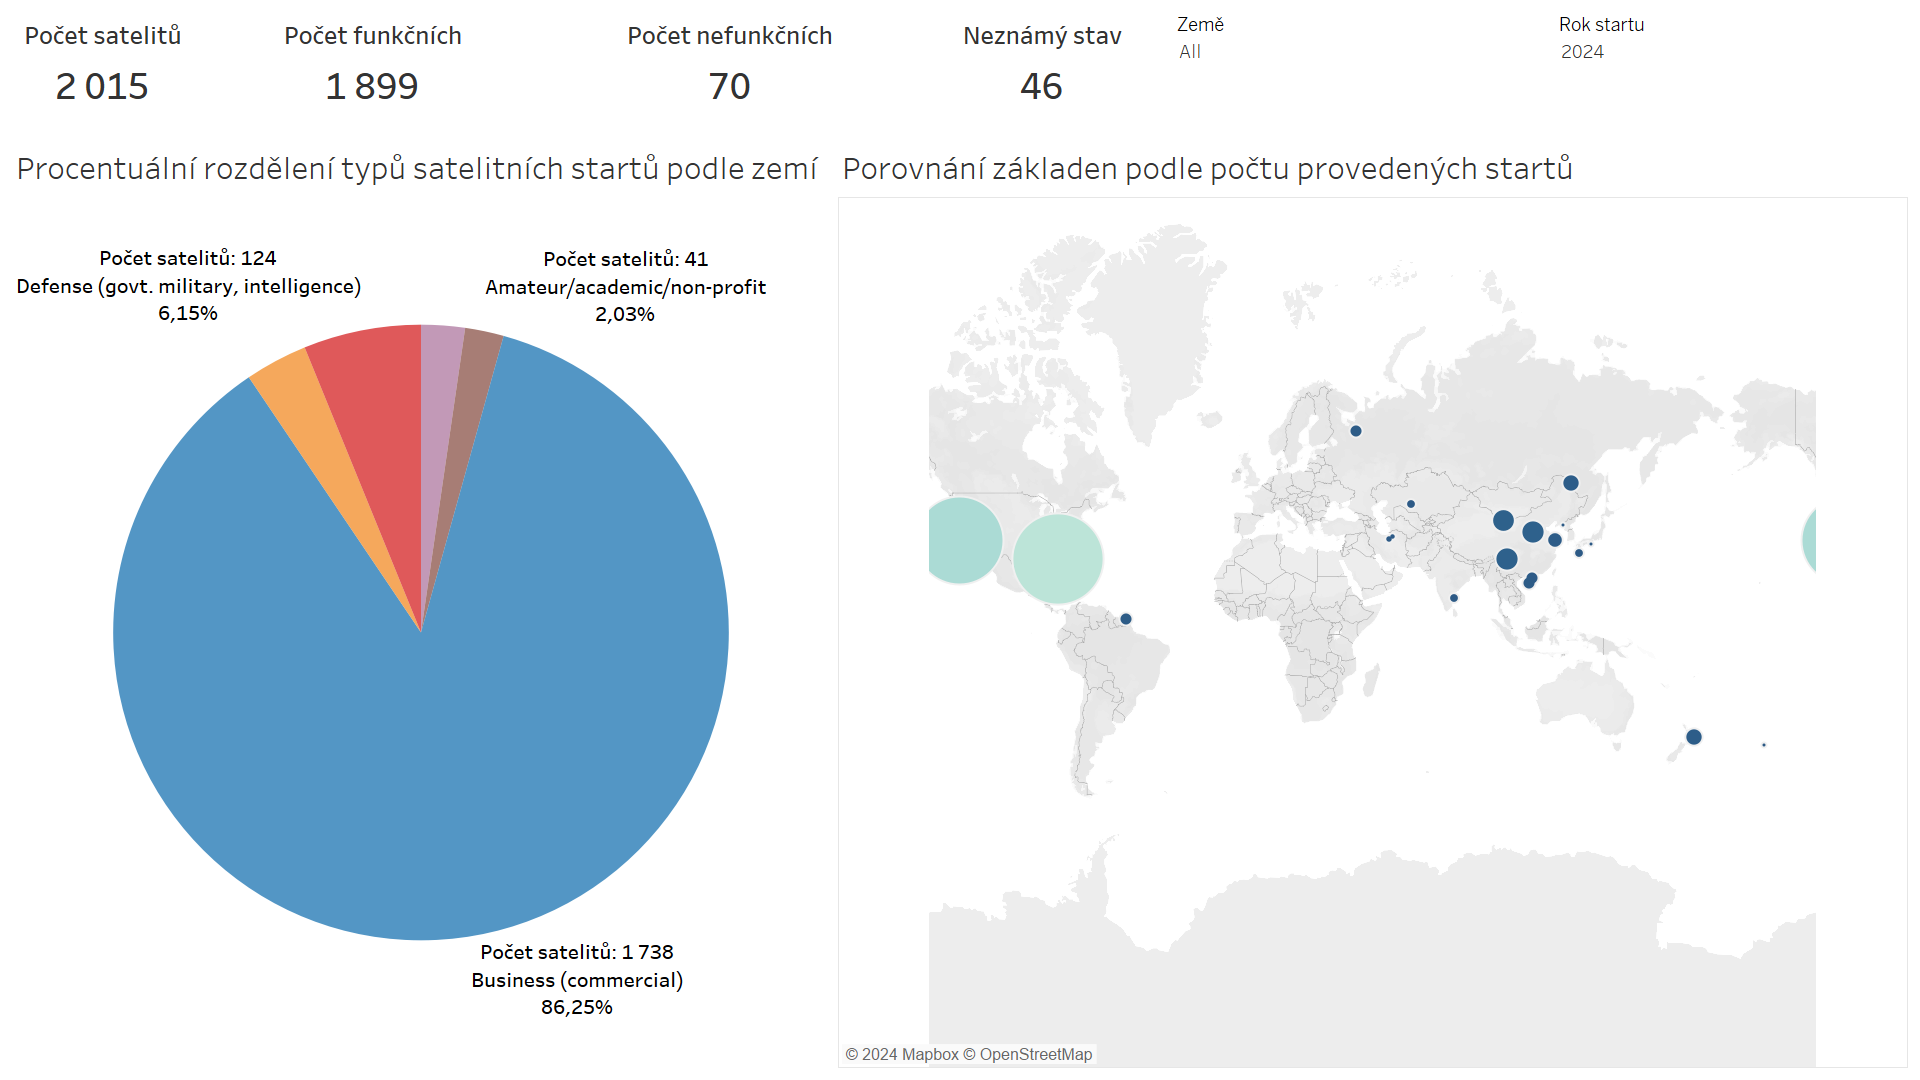

The page's visual inventory and layout, read from the dashboard file:
{"tool":"tableau","page":{"name":"Dashboard 1","canvas":[1920,1080],"ordinal":0},"visuals":[{"type":"worksheet","title":"Počet satelitů","mark":"Automatic","box":[8,8,190.4,128]},{"type":"worksheet","title":"Počet funkčních","mark":"Automatic","box":[198.4,8,349.8,128]},{"type":"worksheet","title":"Počet nefunkčních","mark":"Automatic","box":[548.2,8,363.9,128]},{"type":"worksheet","title":"Neznámý stav","mark":"Automatic","box":[912,8,260.9,128]},{"type":"filter","title":"Procentuální rozdělení typů satelitních startů podle zemí","param":"[federated.0weyjfg1raaq6l1bj7h471vbckyf].[none:UPDATED_FULL_NAME:nk]","box":[1172.9,8,382.2,128]},{"type":"filter","title":"Porovnání základen podle počtu provedených startů","param":"[federated.0weyjfg1raaq6l1bj7h471vbckyf].[yr:DATE_OF_LAUNCH:ok]","box":[1555.2,8,356.8,128]},{"type":"worksheet","title":"Procentuální rozdělení typů satelitních startů podle zemí","mark":"Pie","box":[8,136,826,936]},{"type":"worksheet","title":"Porovnání základen podle počtu provedených startů","mark":"Automatic","rows":["LATITUDE"],"cols":["LONGITUDE"],"box":[834,136,1078,936]}]}

Visuals, with their boxes in screenshot pixels (x1, y1, x2, y2), scaled from the page's 1920x1080 canvas onto the 1920x1080 screenshot:
"Počet satelitů" worksheet: Rect(8, 8, 198, 136)
"Počet funkčních" worksheet: Rect(198, 8, 548, 136)
"Počet nefunkčních" worksheet: Rect(548, 8, 912, 136)
"Neznámý stav" worksheet: Rect(912, 8, 1173, 136)
"Procentuální rozdělení typů satelitních startů podle zemí" filter: Rect(1173, 8, 1555, 136)
"Porovnání základen podle počtu provedených startů" filter: Rect(1555, 8, 1912, 136)
"Procentuální rozdělení typů satelitních startů podle zemí" worksheet (Pie marks): Rect(8, 136, 834, 1072)
"Porovnání základen podle počtu provedených startů" worksheet: Rect(834, 136, 1912, 1072)
